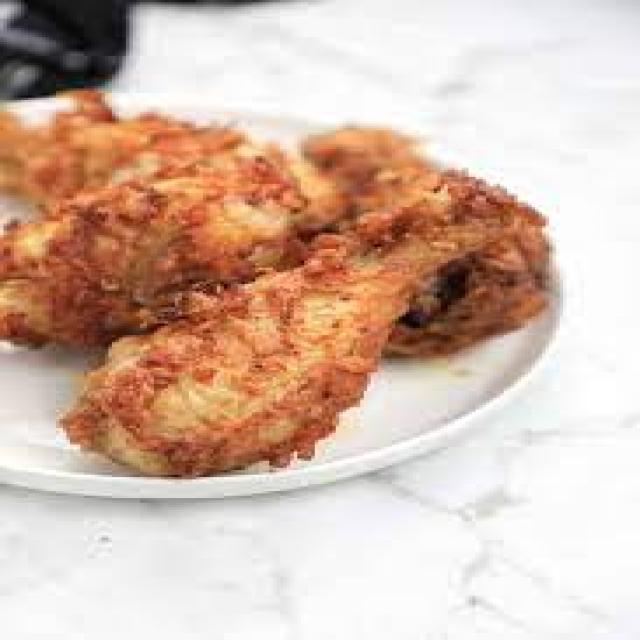Frango: (7, 86, 574, 491)
